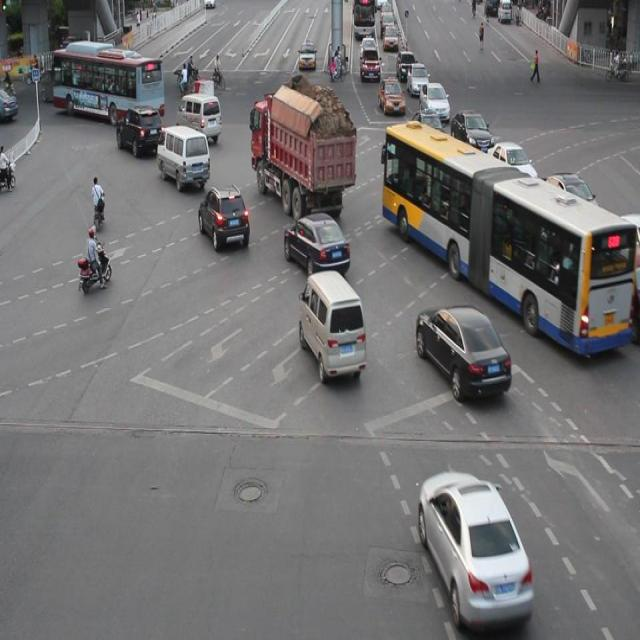bus: (250, 91, 353, 217)
car: (418, 466, 530, 622), (416, 304, 511, 399), (284, 211, 350, 276), (571, 231, 621, 305), (511, 208, 564, 272), (543, 171, 598, 232), (198, 186, 249, 248), (457, 166, 508, 223), (486, 138, 536, 190), (118, 106, 164, 158), (449, 109, 493, 154), (406, 109, 444, 152), (613, 211, 640, 260)
truck: (298, 268, 365, 378), (156, 124, 210, 188), (176, 92, 222, 143)
van: (382, 122, 630, 352)
